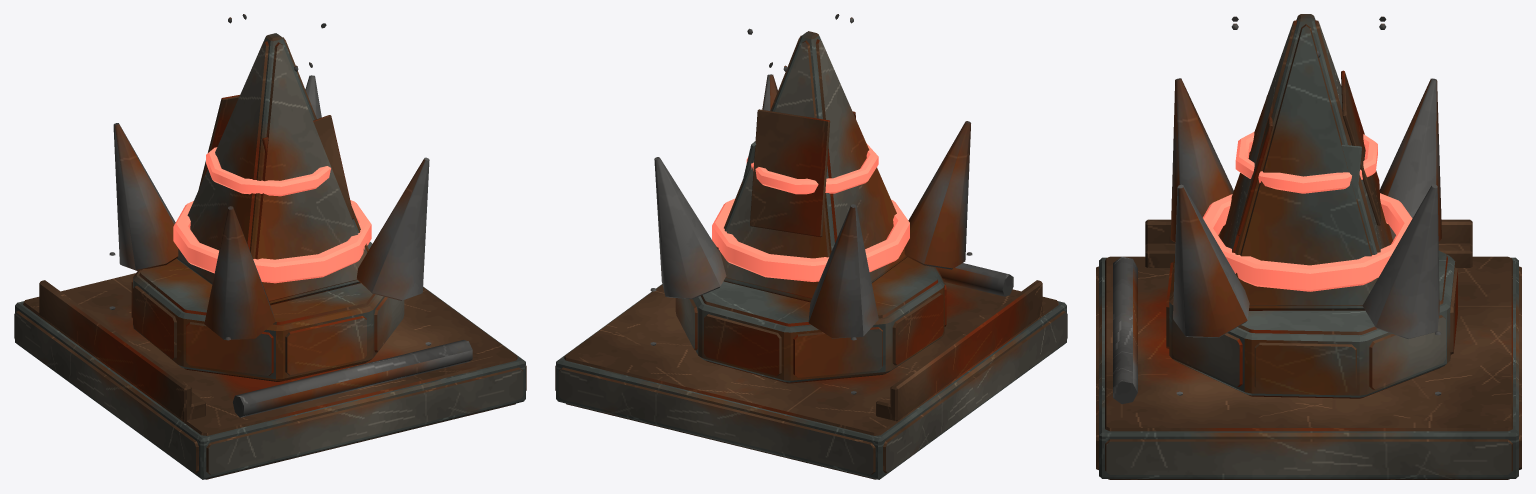
The model's file is R4X_DamageBooster.glb.
The picture shows the model from 3 angles, left to right: view 1: azimuth 30°, elevation 25°; view 2: azimuth 150°, elevation 25°; view 3: azimuth 270°, elevation 25°; orthographic projection. The views are drawn at different scales.
Parts seen in each view (by area): view 1: R4X_DamageBooster_Body; view 2: R4X_DamageBooster_Body; view 3: R4X_DamageBooster_Body.
Part boxes in pixels (left/top/right/bottom): R4X_DamageBooster_Body: left=14, top=14, right=526, bottom=479; R4X_DamageBooster_Body: left=555, top=14, right=1067, bottom=479; R4X_DamageBooster_Body: left=1096, top=14, right=1521, bottom=479.
Bounding box in the file's own units: 0.52 × 0.5112 × 0.52.
Materials: 5 (4 with a texture image).
